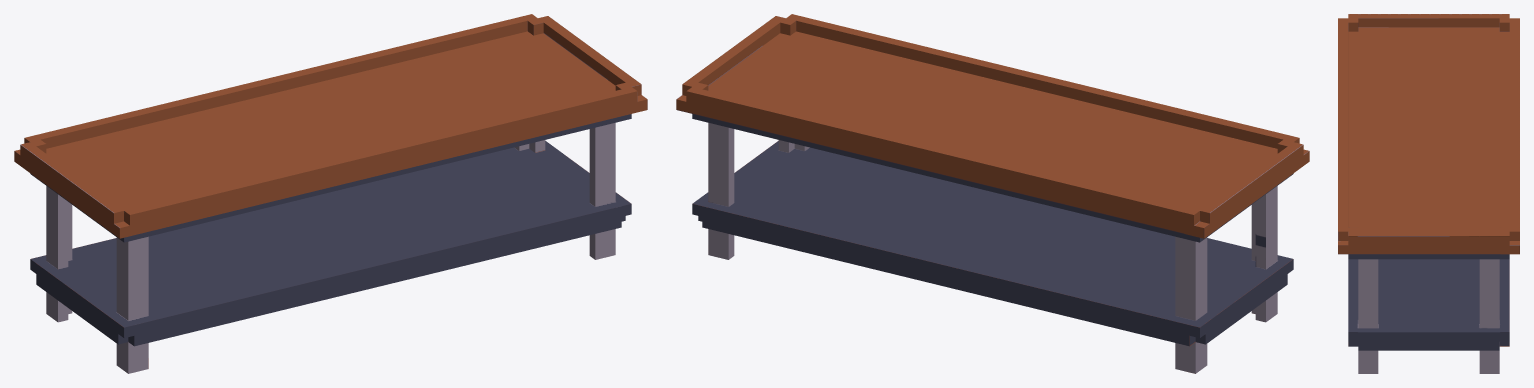
The model's file is IKEA_MesaBricolaje.fbx.
The picture shows the model from 3 angles, left to right: view 1: azimuth 30°, elevation 25°; view 2: azimuth 150°, elevation 25°; view 3: azimuth 270°, elevation 25°; orthographic projection. The views are drawn at different scales.
Parts seen in each view (by area): view 1: IKEA_MesaBricolaje; view 2: IKEA_MesaBricolaje; view 3: IKEA_MesaBricolaje.
Part boxes in pixels (x1,y1,x2,y2): IKEA_MesaBricolaje: (14, 14, 647, 373); IKEA_MesaBricolaje: (676, 14, 1309, 373); IKEA_MesaBricolaje: (1338, 14, 1519, 373).
Size of the model in its own units: 520 by 160 by 180.
